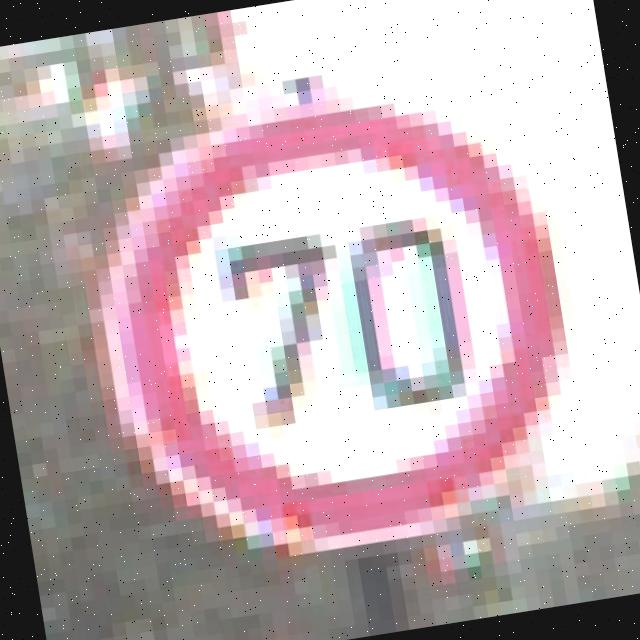Ograniczenie predkosci do 70: (87, 76, 593, 566)
